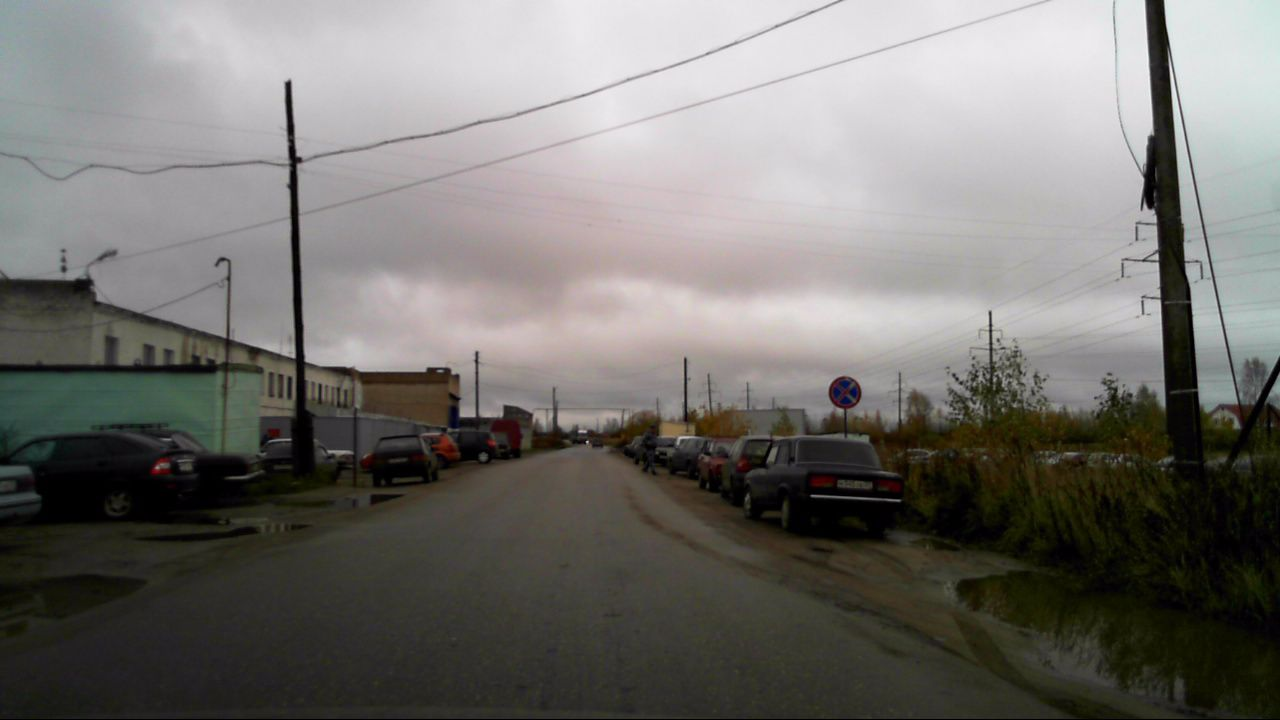No Parking: (828, 375, 861, 409)
